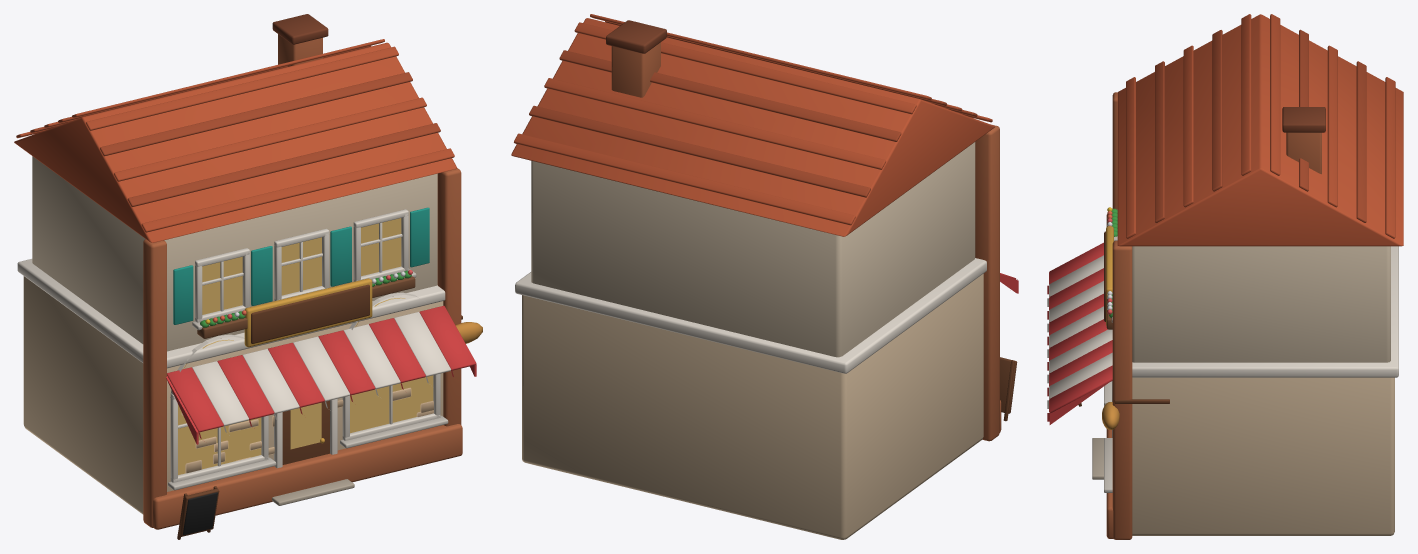
File: bld_bakery.glb
3 views of the same model, side by side, from view 1: azimuth 30°, elevation 25°; view 2: azimuth 150°, elevation 25°; view 3: azimuth 270°, elevation 25° (orthographic). The views are drawn at different scales.
Visible parts, largest first — view 1: bld_bakery, Glass_bld_bakery; view 2: bld_bakery; view 3: bld_bakery.
Part boxes in pixels (x1,y1,x2,y2): bld_bakery: [14, 14, 482, 539]; Glass_bld_bakery: [178, 218, 433, 474]; bld_bakery: [511, 14, 1018, 539]; bld_bakery: [1047, 14, 1403, 539].
Bounding box in the file's own units: 9.96 × 10.96 × 9.03.
